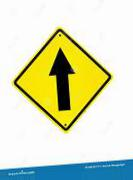forward: (9, 27, 112, 134)
